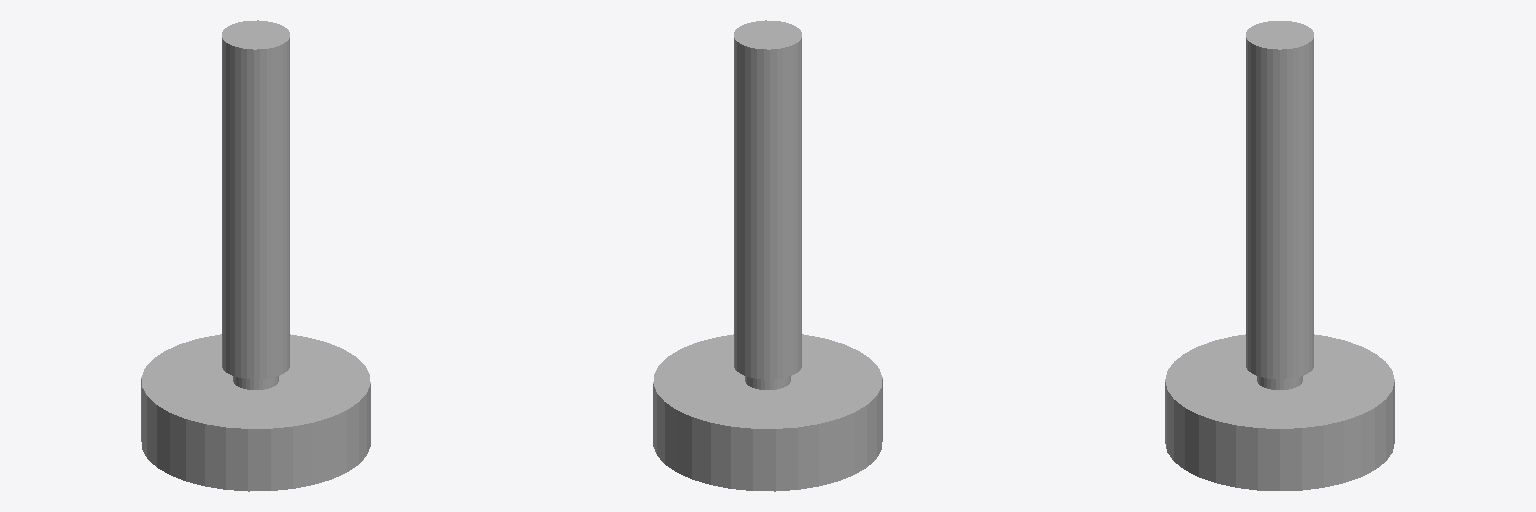
The robot description file, URDF, robot "test_robot":
<?xml version="1.0" ?>
<!-- =================================================================================== -->
<!-- |                                                                                 | -->
<!-- =================================================================================== -->
<robot name="test_robot">
  <link name="base_link">
    <inertial>
      <origin rpy="0 0 0" xyz="0.0000 0.0000 0.0280"/>
      <mass value="1572.9"/>
      <inertia ixx="89.282" ixy="-0.47721" ixz="0.85562" iyy="107.51" iyz="0.0067576" izz="172.02"/>
    </inertial>
    <visual>
      <origin rpy="0 0 0" xyz="0 0 0.0280"/>
      <geometry>
        <!-- <mesh filename="package://kuka_kr210_support/meshes/kr210l150/visual/base_link.dae"/> -->
        <cylinder radius="0.1" length="0.056"/>
      </geometry>
      <material name="">
        <color rgba="0.75294 0.75294 0.75294 1"/>
      </material>
    </visual>
    <collision>
      <origin rpy="0 0 0" xyz="0 0 0"/>
      <geometry>
        <!-- <mesh filename="package://kuka_kr210_support/meshes/kr210l150/visual/base_link.dae"/> -->
        <cylinder radius="0.1" length="0.056"/>
      </geometry>
    </collision>
  </link>
  <link name="link_1">
    <inertial>
      <origin rpy="0 0 0" xyz="0.0000 0.0000 0.058"/>
      <mass value="1385.5"/>
      <inertia ixx="90.873" ixy="33.809" ixz="17.159" iyy="147.03" iyz="0.063634" izz="168.19"/>
    </inertial>
    <visual>
      <origin rpy="0 0 0" xyz="0 0 0.058"/>
      <geometry>
        <!-- <mesh filename="package://kuka_kr210_support/meshes/kr210l150/visual/base_link.dae"/> -->
        <cylinder radius="0.1" length="0.004"/>
      </geometry>
      <material name="">
        <color rgba="0.75294 0.75294 0.75294 1"/>
      </material>
    </visual>
    <collision>
      <origin rpy="0 0 0" xyz="0 0 0"/>
      <geometry>
        <!-- <mesh filename="package://kuka_kr210_support/meshes/kr210l150/visual/base_link.dae"/> -->
        <cylinder radius="0.03" length="0.0386"/>
      </geometry>
    </collision>
  </link>
  <link name="link_2">
    <inertial>
      <origin rpy="0 0 0" xyz="0.0000 0.0000 0.078"/>
      <mass value="958.62"/>
      <inertia ixx="180.42" ixy="-0.83462" ixz="0.32549" iyy="177.68" iyz="-20.82" izz="20.495"/>
    </inertial>
    <visual>
      <origin rpy="0 0 0" xyz="0 0 0.06746"/>
      <geometry>
        <!-- <mesh filename="package://kuka_kr210_support/meshes/kr210l150/visual/base_link.dae"/> -->
        <cylinder radius="0.02" length="0.038"/>
      </geometry>
      <material name="">
        <color rgba="0.75294 0.75294 0.75294 1"/>
      </material>
    </visual>
    <collision>
      <origin rpy="0 0 0" xyz="0 0 0"/>
      <geometry>
        <!-- <mesh filename="package://kuka_kr210_support/meshes/kr210l150/visual/base_link.dae"/> -->
        <cylinder radius="0.03" length="0.12"/>
      </geometry>
    </collision>
  </link>
  <link name="link_3">
    <inertial>
      <origin rpy="0 0 0" xyz="0.0 0.0000 0.1555"/>
      <mass value="710.03"/>
      <inertia ixx="11.887" ixy="-0.12154" ixz="-1.3604" iyy="98.805" iyz="-0.056505" izz="96.251"/>
    </inertial>
    <visual>
      <origin rpy="0 0 0" xyz="0 0 0.13442"/>
      <geometry>
        <!-- <mesh filename="package://kuka_kr210_support/meshes/kr210l150/visual/base_link.dae"/> -->
        <cylinder radius="0.03" length="0.119"/>
      </geometry>
      <material name="">
        <color rgba="0.75294 0.75294 0.75294 1"/>
      </material>
    </visual>
    <collision>
      <origin rpy="0 0 0" xyz="0 0 0"/>
      <geometry>
        <!-- <mesh filename="package://kuka_kr210_support/meshes/kr210l150/visual/base_link.dae"/> -->
        <cylinder radius="0.03" length="0.09"/>
      </geometry>
    </collision>
  </link>
  <link name="link_4">
    <inertial>
      <origin rpy="0 0 0" xyz="0.0 0.0000 0.26"/>
      <mass value="173.73"/>
      <inertia ixx="1.8001" ixy="-0.18515" ixz="0.00051232" iyy="5.514" iyz="0.00070469" izz="6.3498"/>
    </inertial>
    <visual>
      <origin rpy="0 0 0" xyz="0 0 0.23892"/>
      <geometry>
        <!-- <mesh filename="package://kuka_kr210_support/meshes/kr210l150/visual/base_link.dae"/> -->
        <cylinder radius="0.03" length="0.09"/>
      </geometry>
      <material name="">
        <color rgba="0.75294 0.75294 0.75294 1"/>
      </material>
    </visual>
    <collision>
      <origin rpy="0 0 0" xyz="0 0 0"/>
      <geometry>
        <!-- <mesh filename="package://kuka_kr210_support/meshes/kr210l150/visual/base_link.dae"/> -->
        <cylinder radius="0.03" length="0.028"/>
      </geometry>
    </collision>
  </link>
  <link name="link_5">
    <inertial>
      <origin rpy="0 0 0" xyz="0.0 0.0000 0.319"/>
      <mass value="72.17"/>
      <inertia ixx="0.3938" ixy="-0.085332" ixz="1.7223E-06" iyy="0.68945" iyz="-7.0292E-06" izz="0.67292"/>
    </inertial>
    <visual>
      <origin rpy="0 0 0" xyz="0 0 0.29792"/>
      <geometry>
        <!-- <mesh filename="package://kuka_kr210_support/meshes/kr210l150/visual/base_link.dae"/> -->
        <cylinder radius="0.03" length="0.028"/>
      </geometry>
      <material name="">
        <color rgba="0.75294 0.75294 0.75294 1"/>
      </material>
    </visual>
    <collision>
      <origin rpy="0 0 0" xyz="0 0 0"/>
      <geometry>
        <!-- <mesh filename="package://kuka_kr210_support/meshes/kr210l150/visual/base_link.dae"/> -->
        <cylinder radius="0.03" length="0.08"/>
      </geometry>
    </collision>
  </link>
  <link name="link_6">
    <inertial>
      <origin rpy="0 0 0" xyz="0.2218 0.0000 0.373"/>
      <mass value="72.17"/>
      <inertia ixx="0.3938" ixy="-0.085332" ixz="1.7223E-06" iyy="0.68945" iyz="-7.0292E-06" izz="0.67292"/>
    </inertial>
    <visual>
      <origin rpy="0 0 0" xyz="0 0 0.35192"/>
      <geometry>
        <!-- <mesh filename="package://kuka_kr210_support/meshes/kr210l150/visual/base_link.dae"/> -->
        <cylinder radius="0.03" length="0.08"/>
      </geometry>
      <material name="">
        <color rgba="0.75294 0.75294 0.75294 1"/>
      </material>
    </visual>
    <collision>
      <origin rpy="0 0 0" xyz="0 0 0"/>
      <geometry>
        <!-- <mesh filename="package://kuka_kr210_support/meshes/kr210l150/visual/base_link.dae"/> -->
        <cylinder radius="0.03" length="0.08"/>
      </geometry>
    </collision>
  </link>
  <joint name="joint_a1" type="revolute">
    <origin rpy="0 0 0"/>
    <parent link="base_link"/>
    <child link="link_1"/>
    <axis xyz="0 0 1"/>
    <limit effort="0" lower="-3.228859205" upper="3.228859205" velocity="2.146755039"/>
  </joint>
  <joint name="joint_a2" type="fixed">
    <origin rpy="0 0 0"/>
    <parent link="link_1"/>
    <child link="link_2"/>
    <limit effort="0" lower="-0.785398185" upper="1.483529905" velocity="2.007128695"/>
  </joint>
  <joint name="joint_a3" type="revolute">
    <origin rpy="0 0 0"/>
    <parent link="link_2"/>
    <child link="link_3"/>
    <axis xyz="0 1 0"/>
    <limit effort="0" lower="-3.66519153" upper="1.134464045" velocity="1.954768816"/>
  </joint>
  <joint name="joint_a4" type="revolute">
    <origin rpy="0 0 0"/>
    <parent link="link_3"/>
    <child link="link_4"/>
    <axis xyz="0 1 0"/>
    <limit effort="0" lower="-6.10865255" upper="6.10865255" velocity="3.124139447"/>
  </joint>
  <joint name="joint_a5" type="revolute">
    <origin rpy="0 0 0"/>
    <parent link="link_4"/>
    <child link="link_5"/>
    <axis xyz="0 1 0"/>
    <limit effort="0" lower="-2.181661625" upper="2.181661625" velocity="3.001966396"/>
  </joint>
  <joint name="joint_a6" type="revolute">
    <origin rpy="0 0 0"/>
    <parent link="link_5"/>
    <child link="link_6"/>
    <axis xyz="0 1 0"/>
    <limit effort="0" lower="-2.181661625" upper="2.181661625" velocity="3.001966396"/>
  </joint>
</robot>

--- Facts derived from the render (not from the file) ---
3 views of the same robot in one strip: view 1: azimuth 30°, elevation 25°; view 2: azimuth 150°, elevation 25°; view 3: azimuth 270°, elevation 25° (orthographic).
Model test_robot with 7 links and 6 joints (5 revolute, 1 fixed), rooted at base_link, posed all joints at 0.
Links seen in each view (by area): view 1: link_1, base_link, link_3, link_6, link_4, link_5; view 2: link_1, base_link, link_3, link_6, link_4, link_5; view 3: link_1, base_link, link_3, link_6, link_4, link_5.
Link boxes in pixels (x1,y1,x2,y2): link_1: (141, 334, 370, 432); base_link: (141, 383, 370, 491); link_3: (222, 244, 289, 379); link_6: (222, 20, 289, 132); link_4: (222, 151, 289, 255); link_5: (222, 121, 289, 161); link_1: (653, 334, 882, 432); base_link: (653, 383, 882, 491); link_3: (734, 244, 801, 379); link_6: (734, 20, 801, 132); link_4: (734, 151, 801, 255); link_5: (734, 121, 801, 161); link_1: (1165, 334, 1394, 432); base_link: (1165, 386, 1394, 490); link_3: (1246, 244, 1313, 379); link_6: (1246, 21, 1313, 132); link_4: (1246, 151, 1313, 255); link_5: (1246, 122, 1313, 161).
Bounding box of the posed robot: 0.2 × 0.2 × 0.3919 m (x, y, z).
Geometry: primitives only (box / cylinder / sphere), no mesh files.